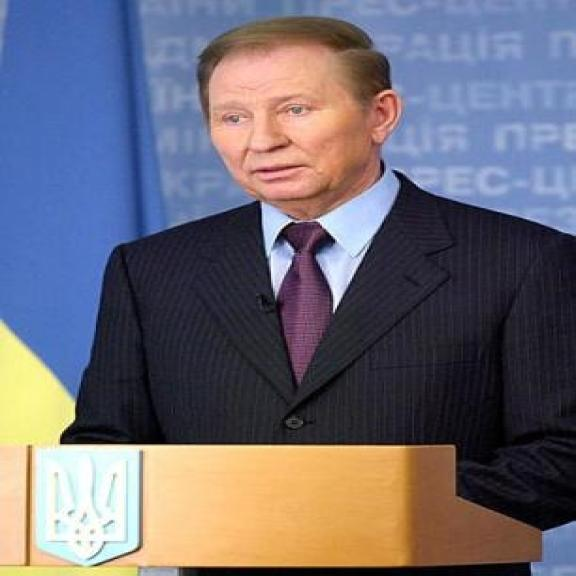face: (213, 54, 402, 205)
